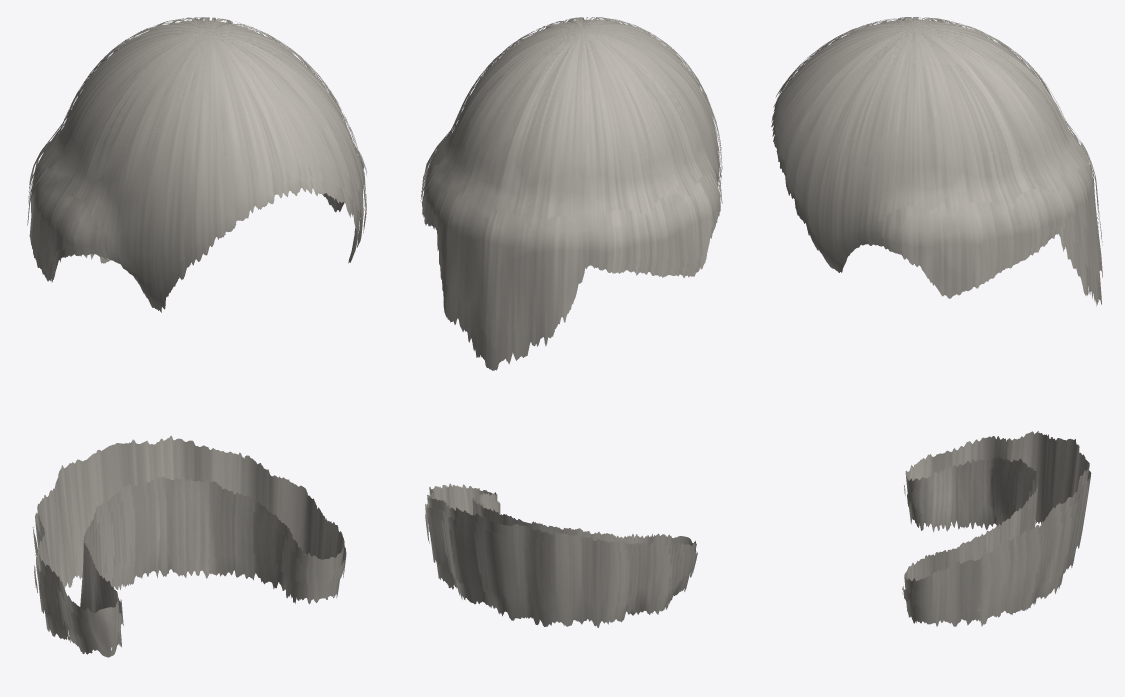
The model's file is toc_dai_edits.glb.
3 views of the same model, side by side, from view 1: azimuth 30°, elevation 25°; view 2: azimuth 150°, elevation 25°; view 3: azimuth 270°, elevation 25° (orthographic). The views are drawn at different scales.
Visible parts, largest first — view 1: toc_dai_edits; view 2: toc_dai_edits; view 3: toc_dai_edits.
Boxes of the visible parts, x1,y1,x2,y2 form: toc_dai_edits: (27,17,366,657); toc_dai_edits: (420,17,722,627); toc_dai_edits: (771,17,1102,626).
Size of the model in its own units: 0.2387 by 0.4678 by 0.2425.
1 material, 1 textured.
